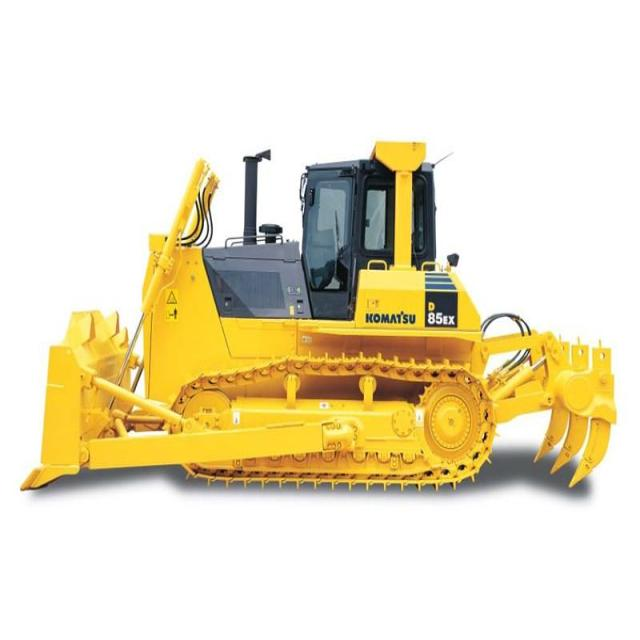buldozerpayloadergrader: (20, 117, 626, 509)
